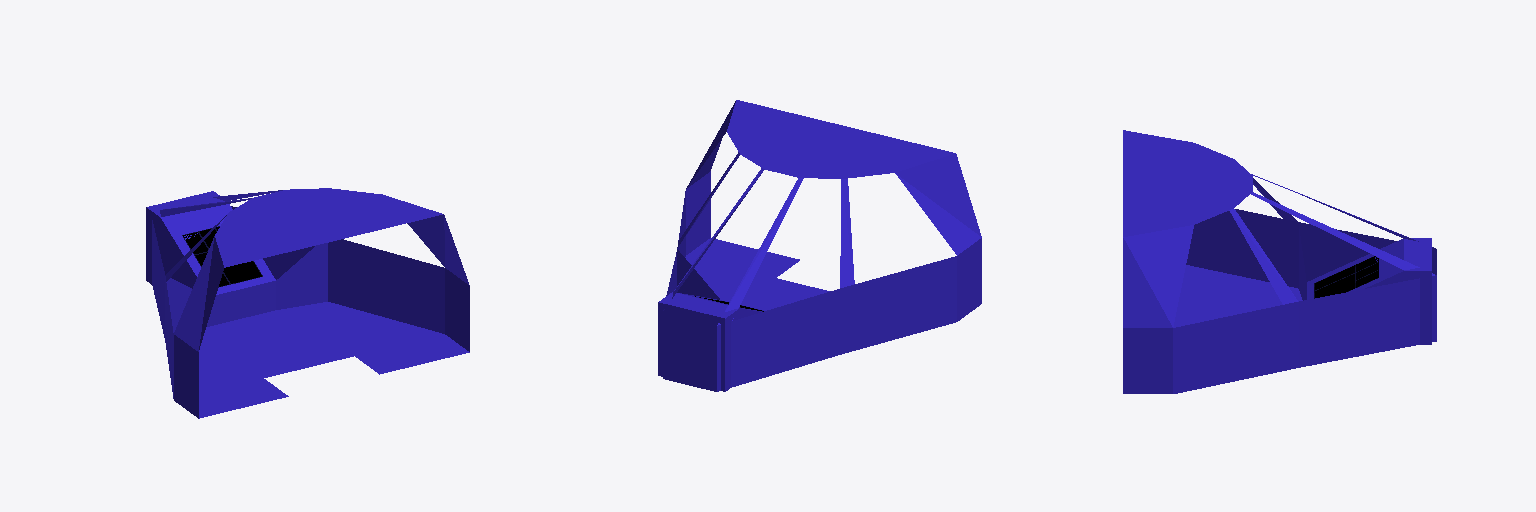
Rendered from cockpitInterior.obj.
The picture shows the model from 3 angles: view 1: azimuth 30°, elevation 25°; view 2: azimuth 150°, elevation 25°; view 3: azimuth 270°, elevation 25°; orthographic projection.
Visible parts, largest first — view 1: Cube, Screen.001; view 2: Cube; view 3: Cube.
Boxes of the visible parts, x1,y1,x2,y2 form: Cube: [146, 188, 469, 418]; Screen.001: [223, 261, 261, 283]; Cube: [658, 100, 981, 391]; Cube: [1123, 130, 1436, 393].
Bounding box in the file's own units: 5 × 2.54 × 5.